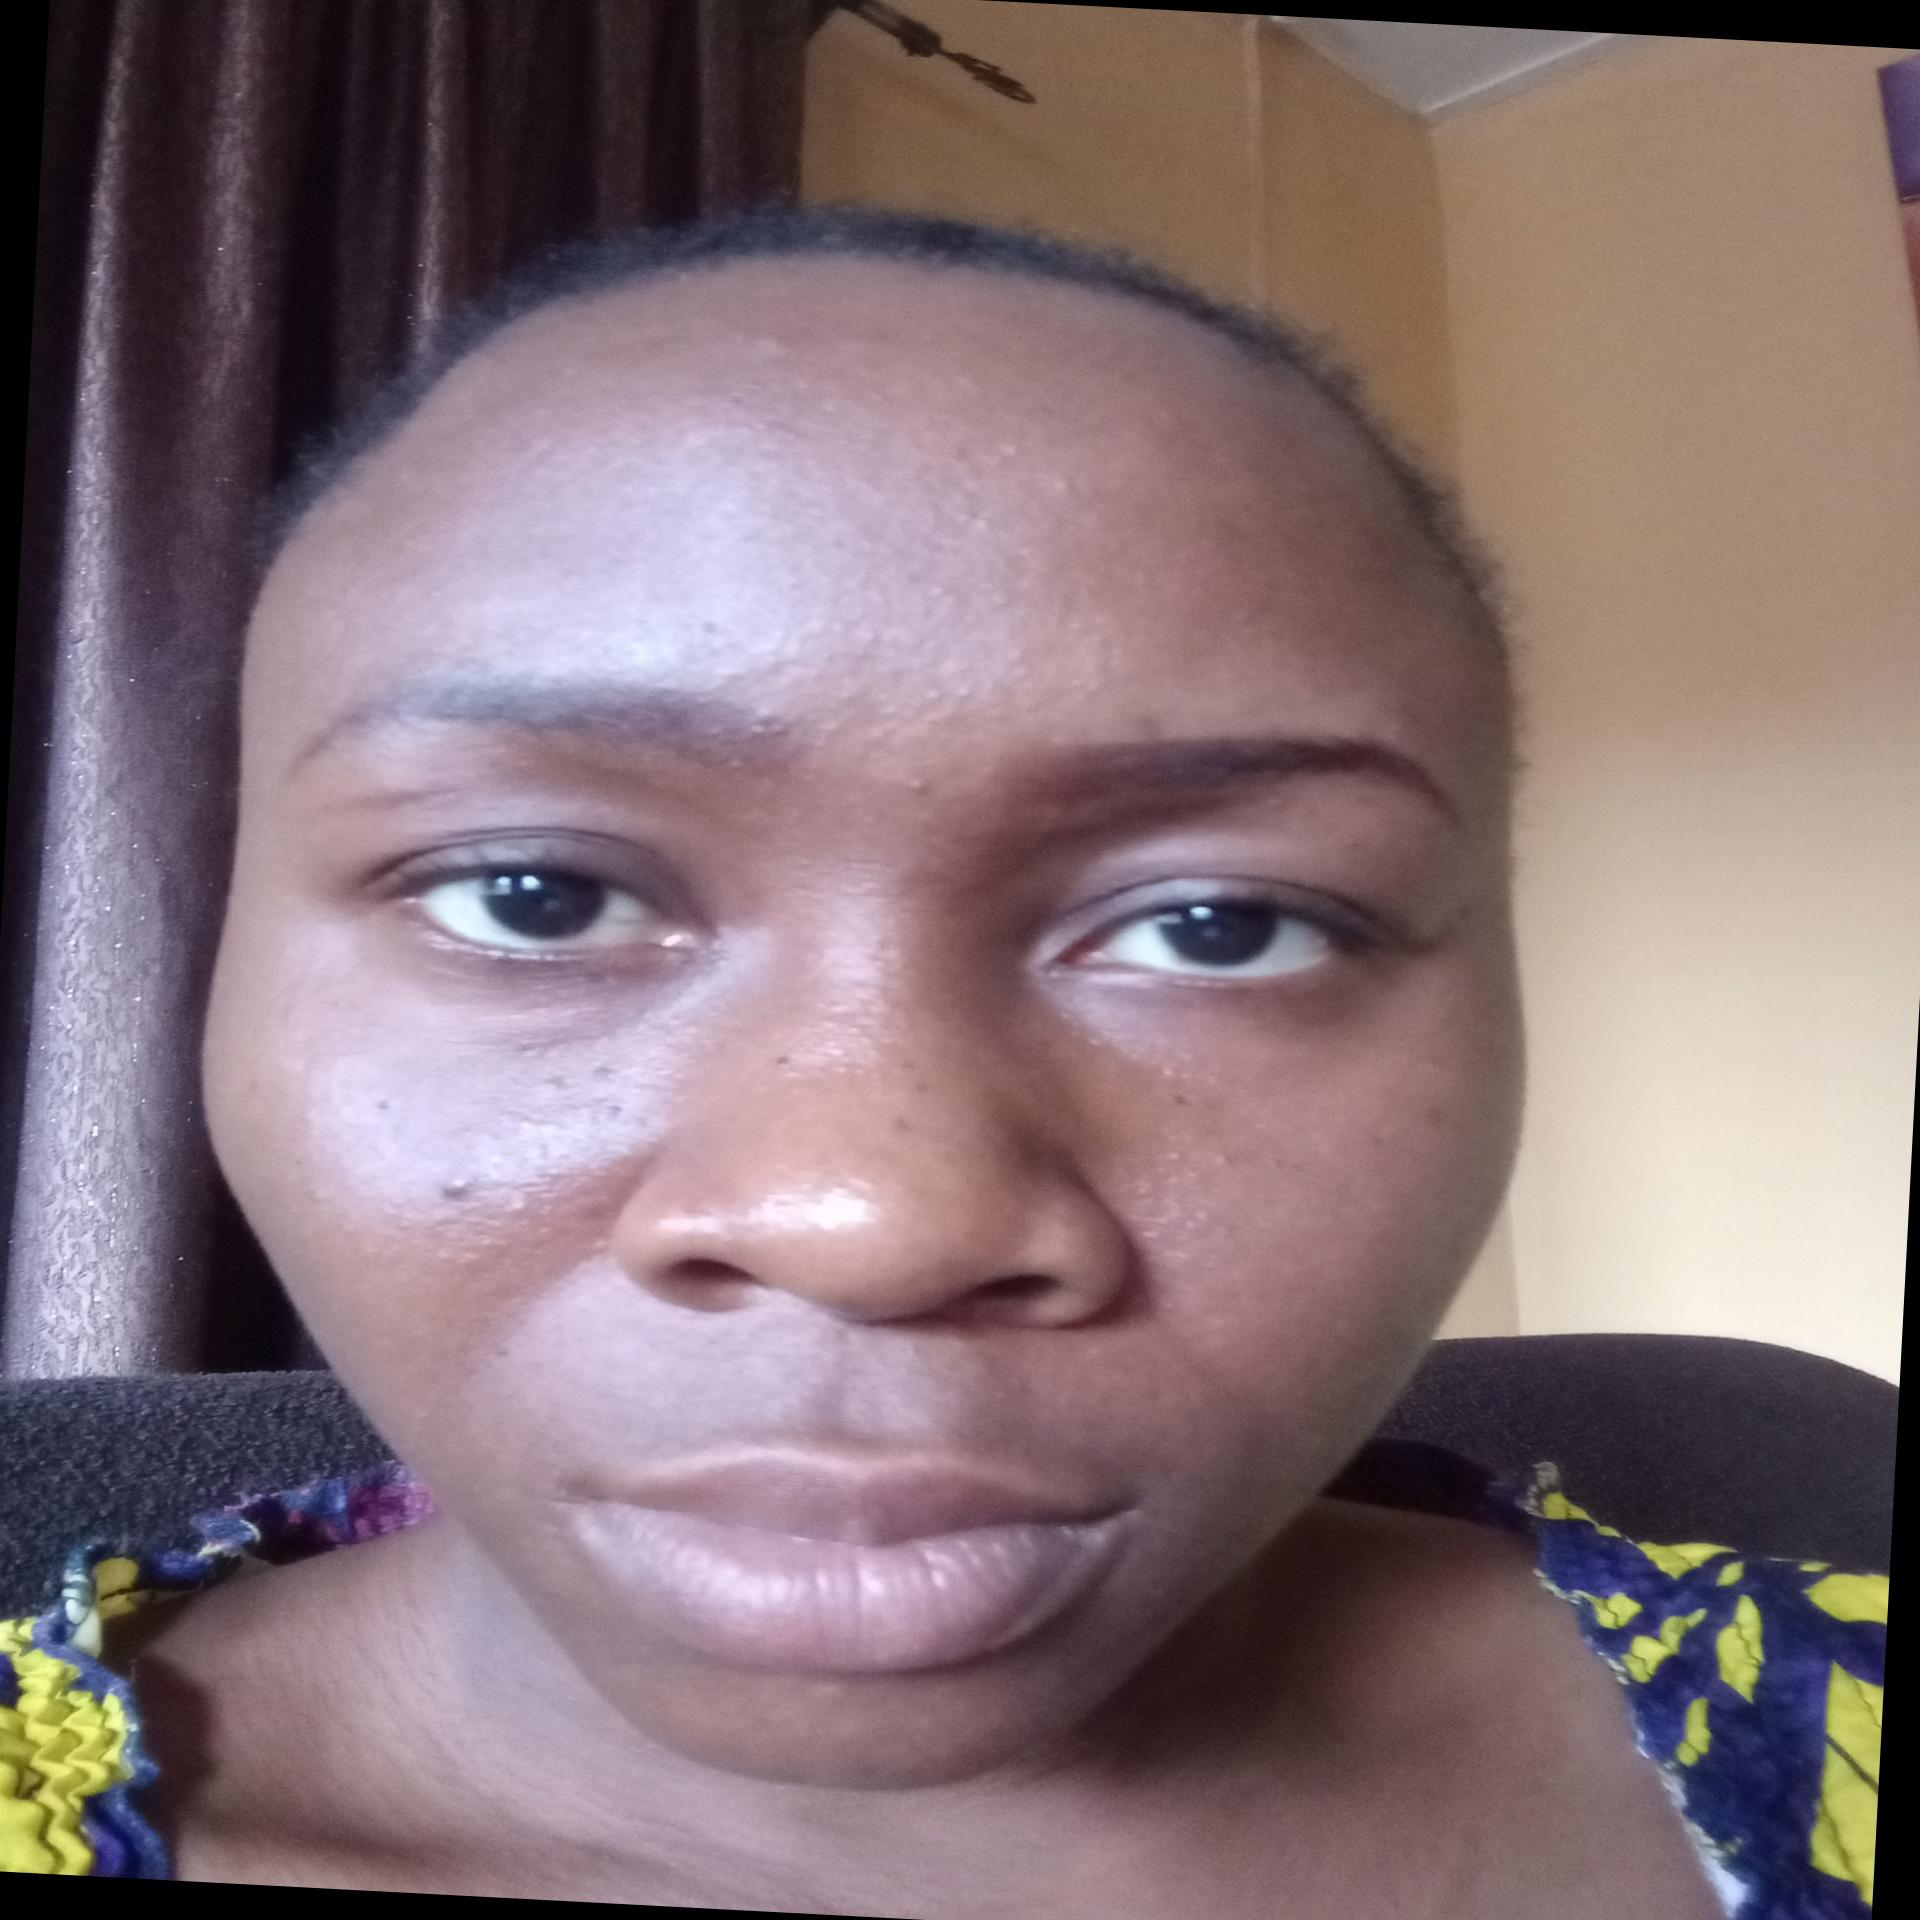Acne: (427, 1220, 524, 1282), (396, 1166, 475, 1222), (793, 608, 884, 652), (883, 1053, 942, 1106), (918, 679, 978, 728), (1150, 1146, 1243, 1175), (570, 1173, 614, 1225), (501, 1173, 550, 1213), (1039, 473, 1101, 499), (881, 1111, 932, 1143), (956, 503, 1007, 535), (744, 324, 800, 350), (909, 573, 960, 601), (1159, 1081, 1194, 1116), (582, 1055, 629, 1080), (897, 768, 935, 798), (531, 1069, 573, 1095), (601, 1095, 631, 1122)
